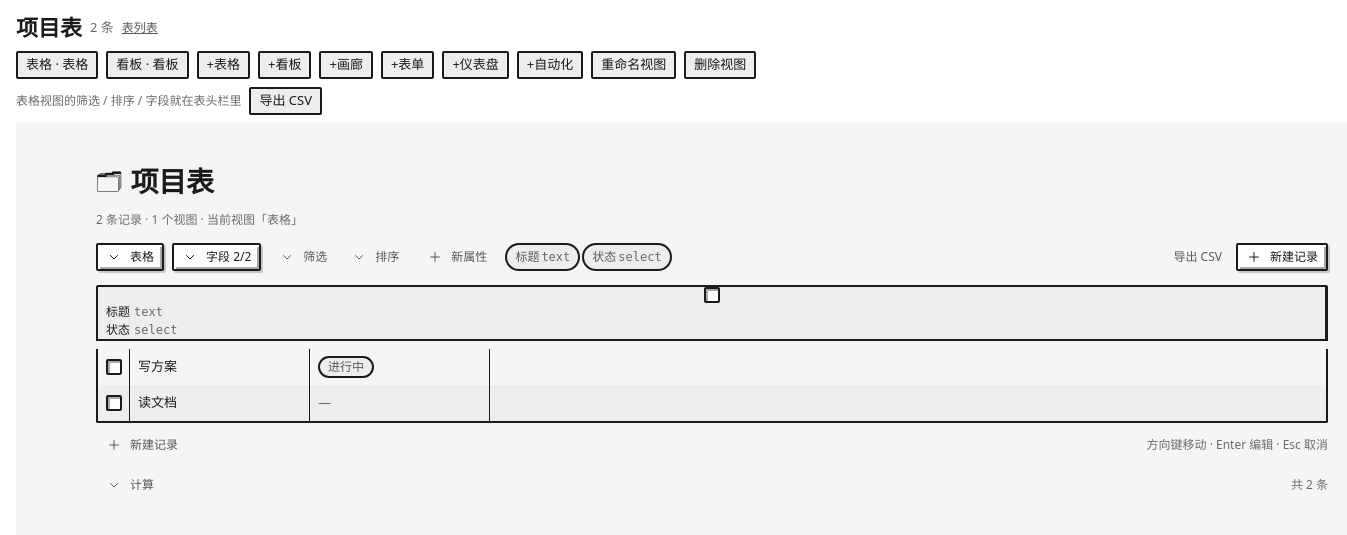
Test: T103-01 删除视图（假按钮补成真实入口 + 二次确认 + 护栏） › 多视图：按钮可用；首次点击只「上膛」并明示视图名，不删
Expected: the element with test id "bitable-viewbar" is shown, [16,51,756,79]
Click the button with test id "bitable-view-remove".
click(720, 65)  # box [684,51,756,79]
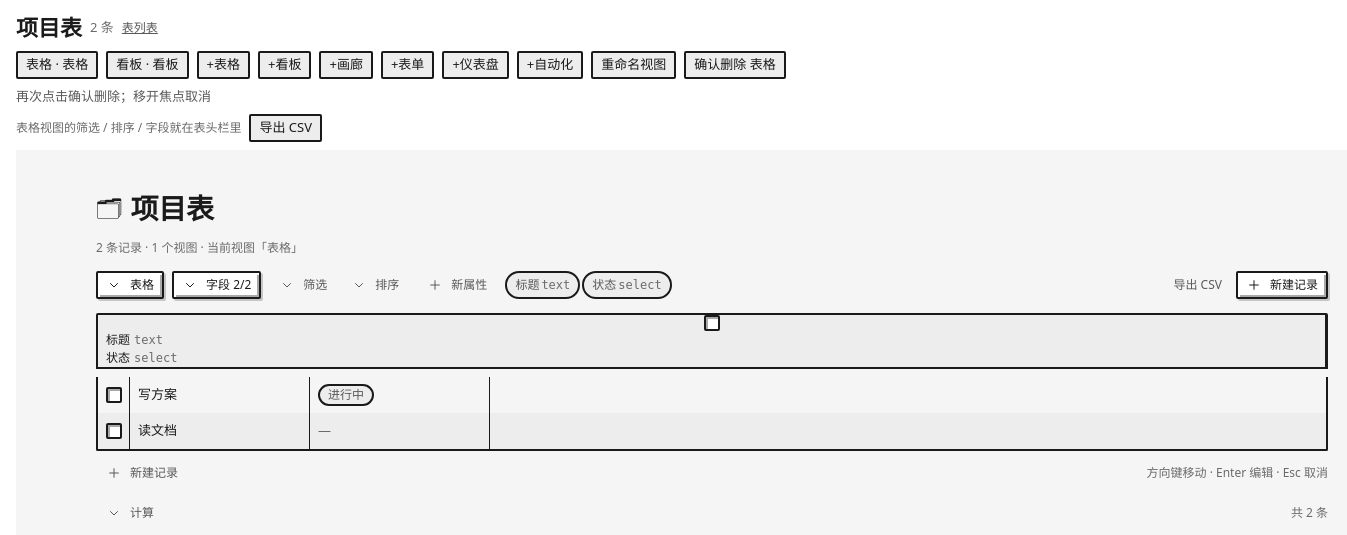
Expected: the button with test id "bitable-view-remove" shows "确认删除", [684,51,786,79]
Expected: the button with test id "bitable-view-remove" shows "表格", [684,51,786,79]
Expected: the message with test id "bitable-view-msg" shows "再次点击", [16,87,211,105]
